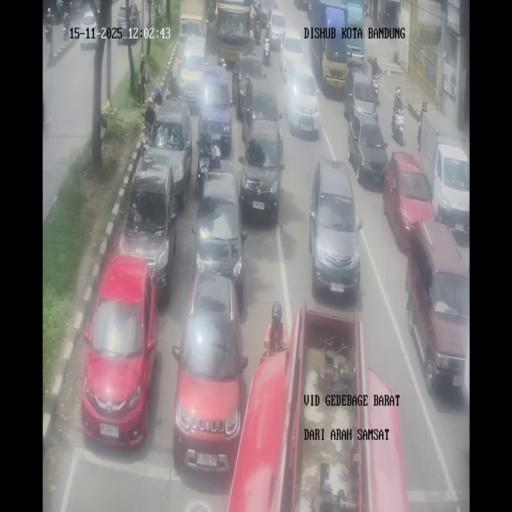car: (80, 255, 160, 448), (404, 223, 468, 394), (118, 152, 182, 296), (190, 170, 246, 306), (308, 160, 361, 300), (384, 152, 434, 254), (239, 120, 284, 224), (432, 144, 470, 240), (197, 66, 233, 153), (348, 116, 389, 188), (282, 67, 320, 137), (232, 53, 265, 120), (178, 34, 207, 108), (344, 66, 377, 126), (279, 27, 304, 77), (116, 4, 140, 44), (268, 8, 286, 50), (79, 10, 97, 49)
motorcycle: (391, 100, 405, 144), (150, 97, 162, 124), (252, 12, 262, 44), (169, 72, 180, 100), (142, 116, 153, 143), (371, 74, 380, 104), (60, 0, 72, 22), (369, 55, 380, 78), (262, 40, 271, 66), (100, 114, 108, 140), (260, 9, 268, 32), (62, 19, 70, 41), (417, 119, 422, 150), (216, 55, 227, 68), (45, 23, 51, 42), (377, 10, 383, 23), (364, 0, 368, 16)
truck: (220, 298, 412, 512), (309, 0, 351, 91), (214, 1, 252, 67), (345, 3, 365, 63), (294, 0, 310, 17)
